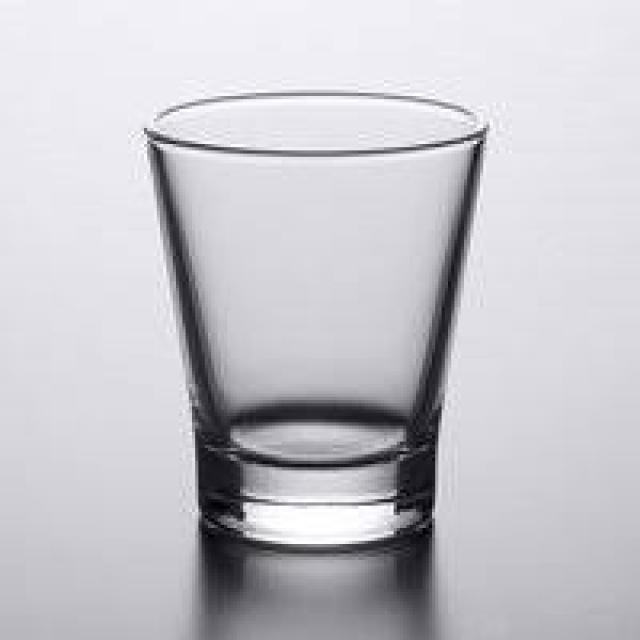glass: (141, 86, 483, 544)
